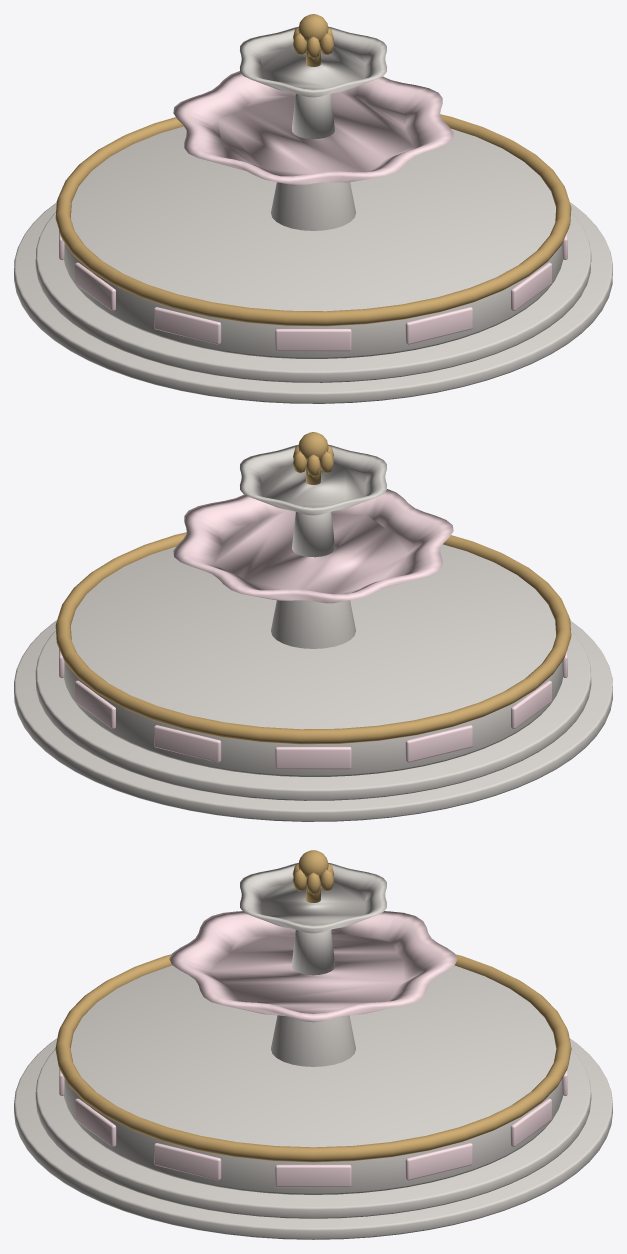
Rendered from plaza_fountain.glb.
3 views of the same model, one above another, from view 1: azimuth 30°, elevation 25°; view 2: azimuth 150°, elevation 25°; view 3: azimuth 270°, elevation 25° (orthographic).
Visible parts, largest first — view 1: Cone; view 2: Cone; view 3: Cone.
Boxes of the visible parts, x1,y1,x2,y2 form: Cone: (14, 14, 612, 403); Cone: (14, 432, 612, 821); Cone: (14, 850, 612, 1239).
Size of the model in its own units: 5.5 by 2.66 by 5.5.
